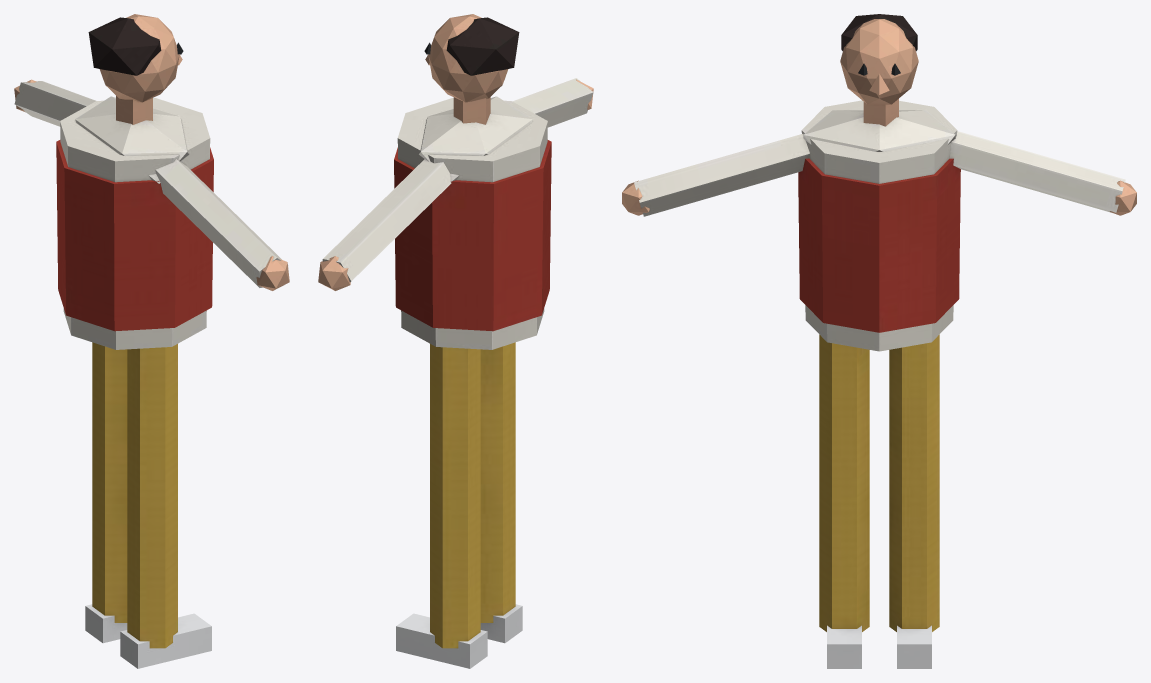
File: dansare_2_tex.glb
3 renders of one model, left to right at view 1: azimuth 30°, elevation 25°; view 2: azimuth 150°, elevation 25°; view 3: azimuth 270°, elevation 25°, orthographic.
Parts seen in each view (by area): view 1: dansare_2; view 2: dansare_2; view 3: dansare_2.
Boxes of the visible parts, x1,y1,x2,y2 form: dansare_2: (14, 14, 289, 668); dansare_2: (318, 14, 593, 668); dansare_2: (622, 14, 1136, 668).
Bounding box in the file's own units: 0.42 × 1.78 × 1.33.
8 materials, 7 textured.
